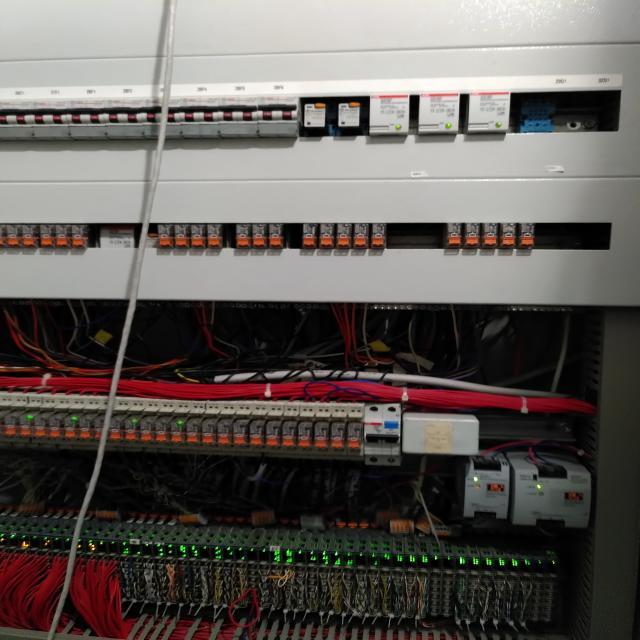Dimmer: (469, 92, 511, 133), (420, 93, 458, 134), (370, 95, 407, 134), (98, 226, 137, 250)
FI_Sicherungskombi: (363, 402, 402, 466)
Leitungsschutzschalter: (256, 82, 300, 137), (219, 82, 260, 137), (182, 84, 222, 137), (107, 86, 146, 139), (147, 86, 185, 139), (36, 88, 73, 140), (70, 87, 107, 139), (0, 88, 36, 139), (333, 97, 368, 134), (302, 97, 331, 136)
Relais: (124, 413, 140, 445), (445, 223, 464, 248), (518, 223, 537, 248), (141, 416, 156, 446), (171, 419, 187, 447), (2, 411, 21, 434), (319, 223, 336, 248), (330, 422, 347, 447), (70, 225, 89, 247), (371, 223, 387, 249), (313, 422, 329, 448), (33, 413, 49, 439), (190, 224, 207, 248), (353, 224, 370, 248), (500, 223, 517, 247), (483, 223, 500, 247), (249, 420, 266, 444), (347, 422, 363, 447), (201, 420, 217, 445), (62, 414, 78, 439), (297, 422, 314, 445), (233, 419, 250, 442), (281, 421, 298, 444), (235, 224, 251, 248), (302, 224, 318, 248), (156, 418, 169, 447), (21, 225, 38, 247), (186, 418, 203, 440), (157, 224, 173, 247), (252, 224, 268, 247), (173, 224, 189, 247), (208, 224, 224, 247), (269, 224, 285, 247), (464, 223, 480, 246), (39, 225, 55, 247), (217, 420, 233, 442), (19, 414, 34, 437), (54, 225, 70, 246), (78, 416, 92, 440), (336, 225, 351, 247), (267, 421, 280, 446), (111, 417, 123, 444), (94, 417, 108, 440), (6, 225, 19, 247), (50, 415, 61, 438)
